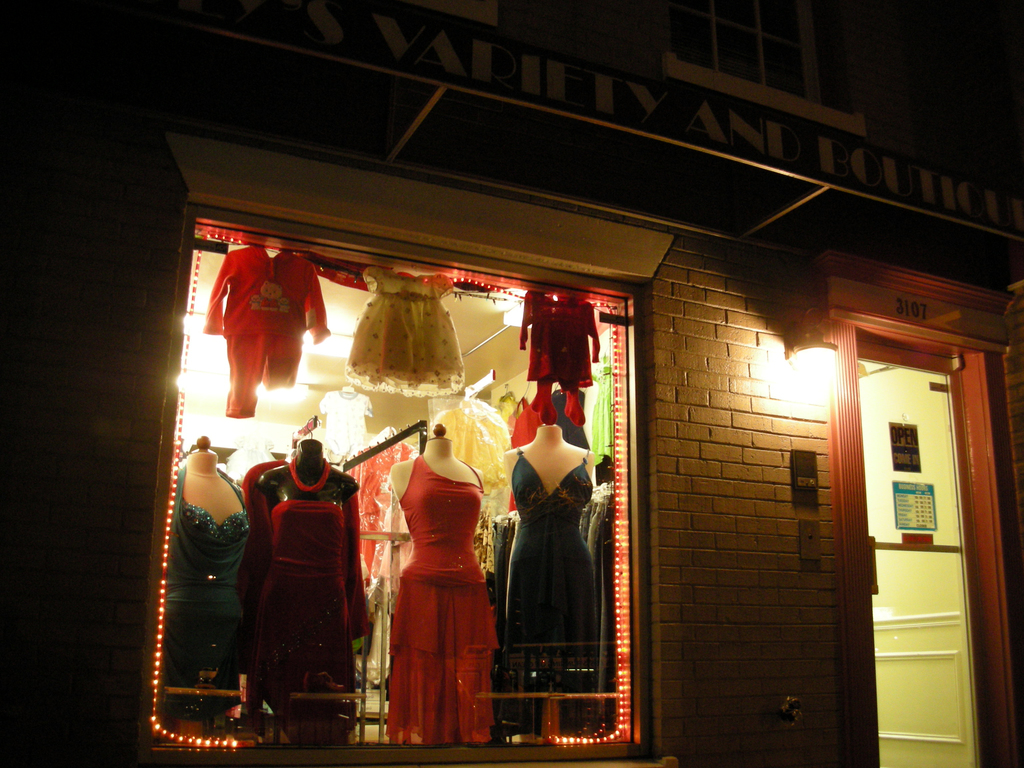Window: (120, 209, 653, 756)
